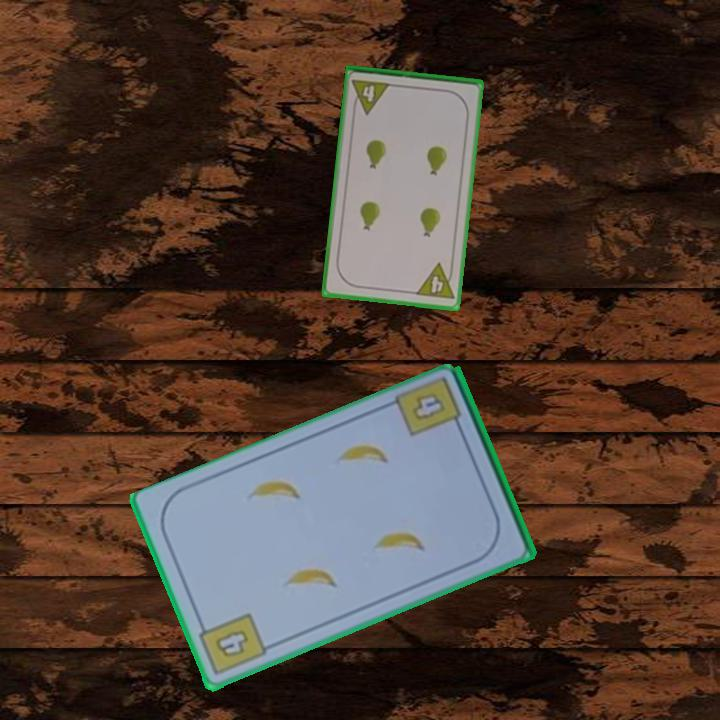4b: (194, 609, 270, 679), (408, 389, 448, 424)
4p: (412, 260, 457, 303), (348, 76, 393, 117)
